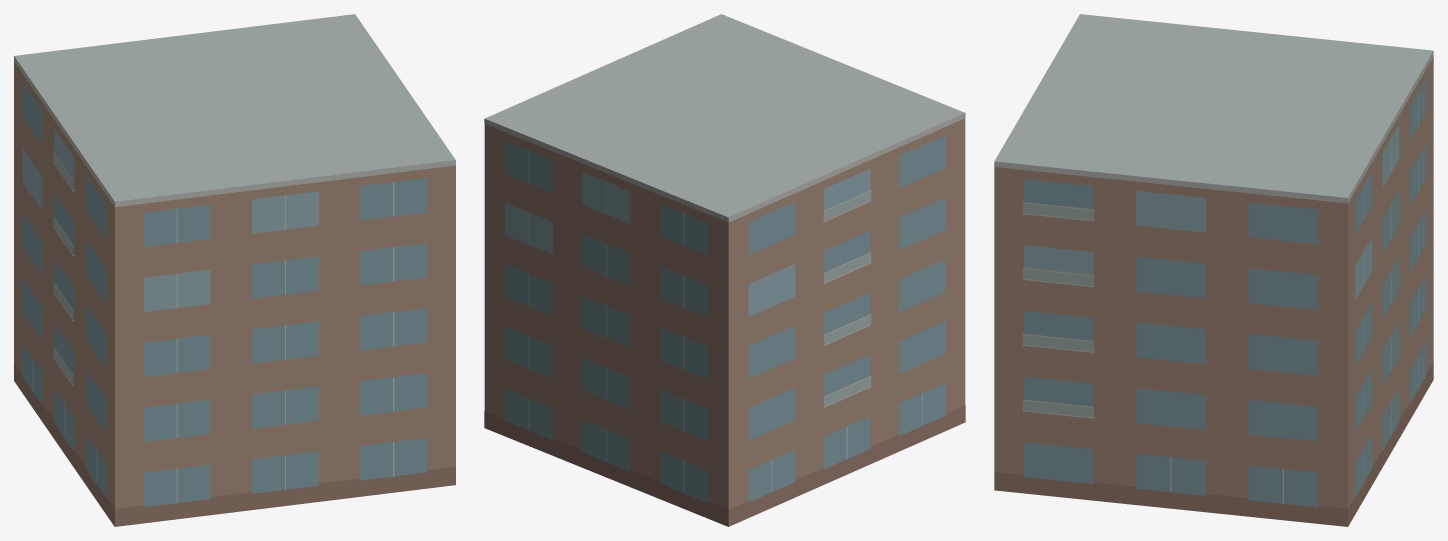
File: survey-upis-32953476.glb
3 renders of one model, left to right at view 1: azimuth 30°, elevation 25°; view 2: azimuth 150°, elevation 25°; view 3: azimuth 270°, elevation 25°, orthographic. The views are drawn at different scales.
Parts seen in each view (by area): view 1: survey-upis-32953476.tmp; view 2: survey-upis-32953476.tmp; view 3: survey-upis-32953476.tmp.
Boxes of the visible parts, x1,y1,x2,y2 form: survey-upis-32953476.tmp: (14,14,455,526); survey-upis-32953476.tmp: (484,14,965,526); survey-upis-32953476.tmp: (994,14,1433,526).
Bounding box in the file's own units: 17.65 × 14.7 × 17.81.
